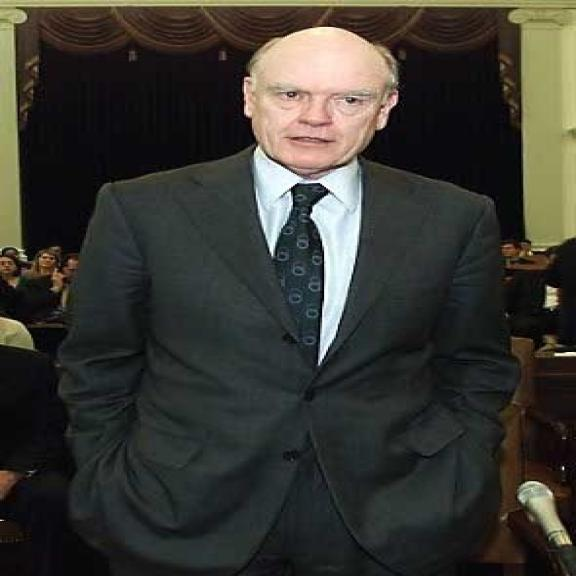face: (234, 39, 400, 174)
